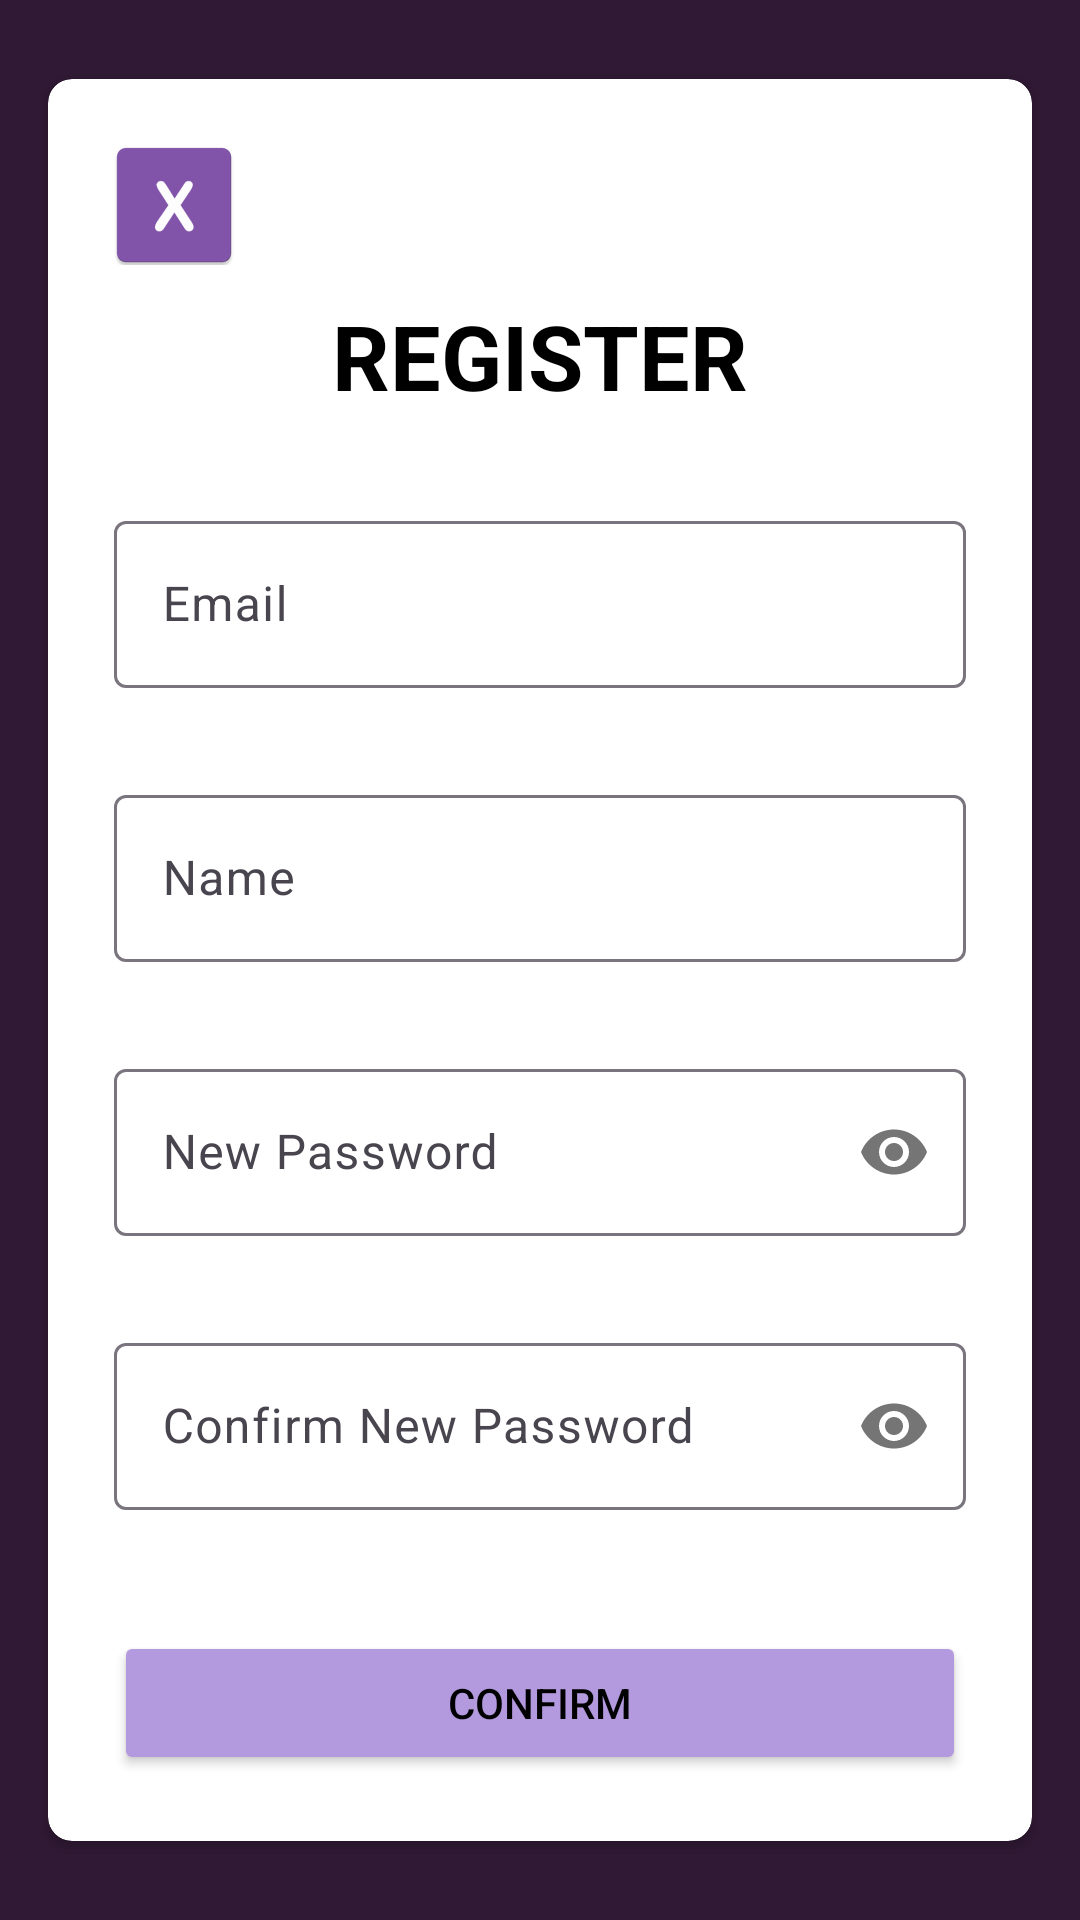

Screen size 1080w x 1920h. Icon name, then its box in pixels as {"left": x1, "top": y1, "right": x2, "bottom": y2}:
A button to return to previous page: {"left": 116, "top": 148, "right": 232, "bottom": 265}
